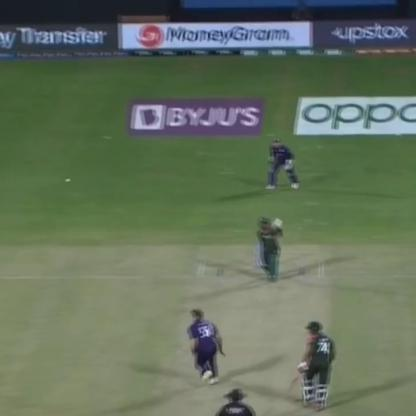ball: (62, 175, 74, 185)
pitch: (183, 244, 334, 415)
